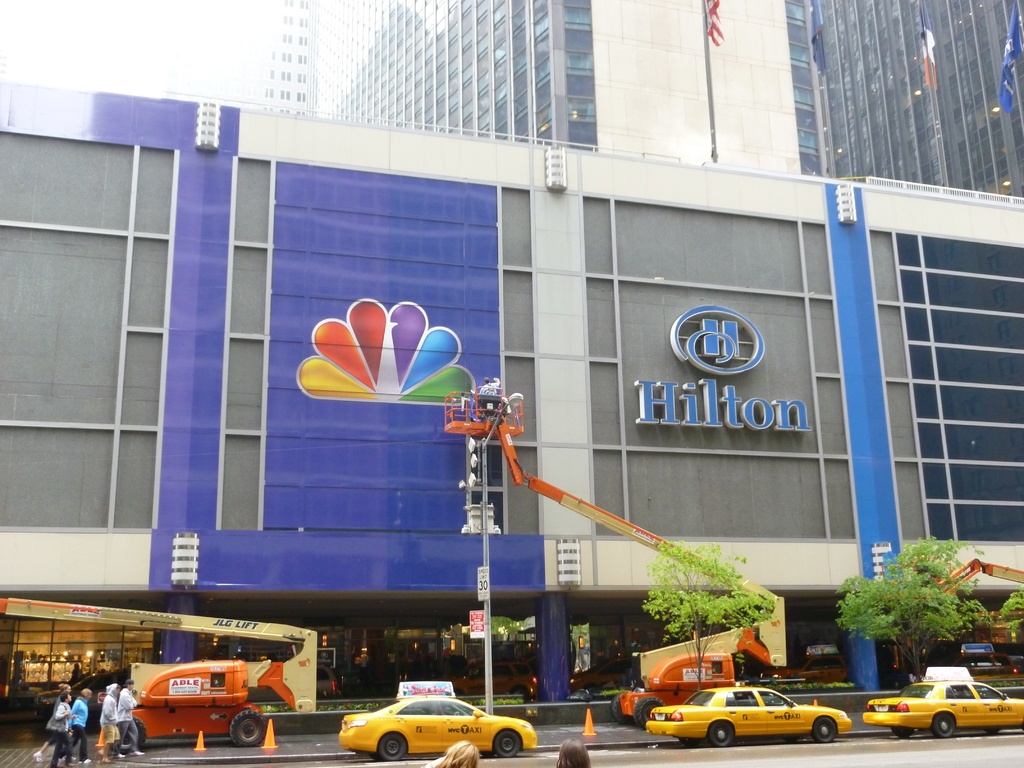Car: (335, 684, 536, 760), (648, 687, 851, 748), (864, 679, 1012, 743)
